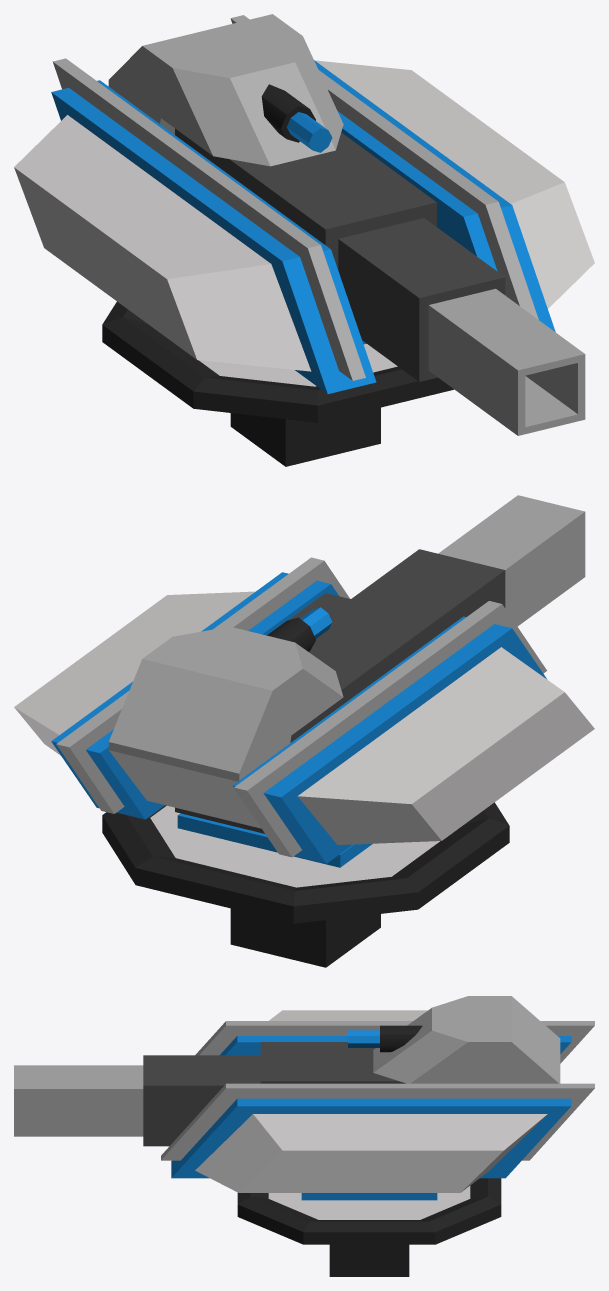
The model's file is Cannon.fbx.
The picture shows the model from 3 angles, top to bottom: view 1: azimuth 30°, elevation 25°; view 2: azimuth 150°, elevation 25°; view 3: azimuth 270°, elevation 25°; orthographic projection. The views are drawn at different scales.
Visible parts, largest first — view 1: SideGunL1, SideGunL, L2, GunBlock3, GunBlock2, B2, GunBlock1, Light1, Light, B1, pCube48; view 2: SideGunL1, L2, B2, SideGunL, GunBlock3, Light1, GunBlock1, GunBlock2, Light, B1, B3, pCube48; view 3: SideGunL, L2, B2, GunBlock3, Light, GunBlock2, GunBlock1, Light1, SideGunL1, B1, pCube48, B3.
Boxes of the visible parts, x1,y1,x2,y2 form: SideGunL1: [14, 80, 376, 393]; SideGunL: [314, 60, 594, 332]; L2: [108, 14, 343, 166]; GunBlock3: [428, 288, 585, 435]; GunBlock2: [338, 218, 505, 381]; B2: [102, 301, 453, 422]; GunBlock1: [175, 128, 436, 269]; Light1: [53, 58, 365, 380]; Light: [230, 15, 538, 319]; B1: [230, 407, 380, 466]; pCube48: [261, 84, 332, 152]; SideGunL1: [232, 616, 594, 863]; L2: [108, 626, 343, 828]; B2: [102, 802, 509, 923]; SideGunL: [14, 572, 338, 819]; GunBlock3: [438, 495, 585, 626]; Light1: [234, 601, 546, 857]; GunBlock1: [175, 593, 436, 833]; GunBlock2: [351, 549, 505, 635]; Light: [56, 557, 349, 813]; B1: [230, 908, 380, 967]; B3: [177, 813, 372, 867]; pCube48: [267, 607, 332, 651]; SideGunL: [171, 1098, 571, 1192]; L2: [373, 996, 560, 1083]; B2: [237, 1178, 501, 1244]; GunBlock3: [14, 1065, 143, 1136]; Light: [161, 1083, 594, 1160]; GunBlock2: [143, 1055, 260, 1146]; GunBlock1: [260, 1042, 405, 1083]; Light1: [195, 1021, 594, 1063]; SideGunL1: [220, 1010, 571, 1055]; B1: [329, 1244, 409, 1276]; pCube48: [348, 1025, 422, 1052]; B3: [301, 1193, 437, 1200].
Size of the model in its own units: 4.17 by 3.34 by 7.3.
